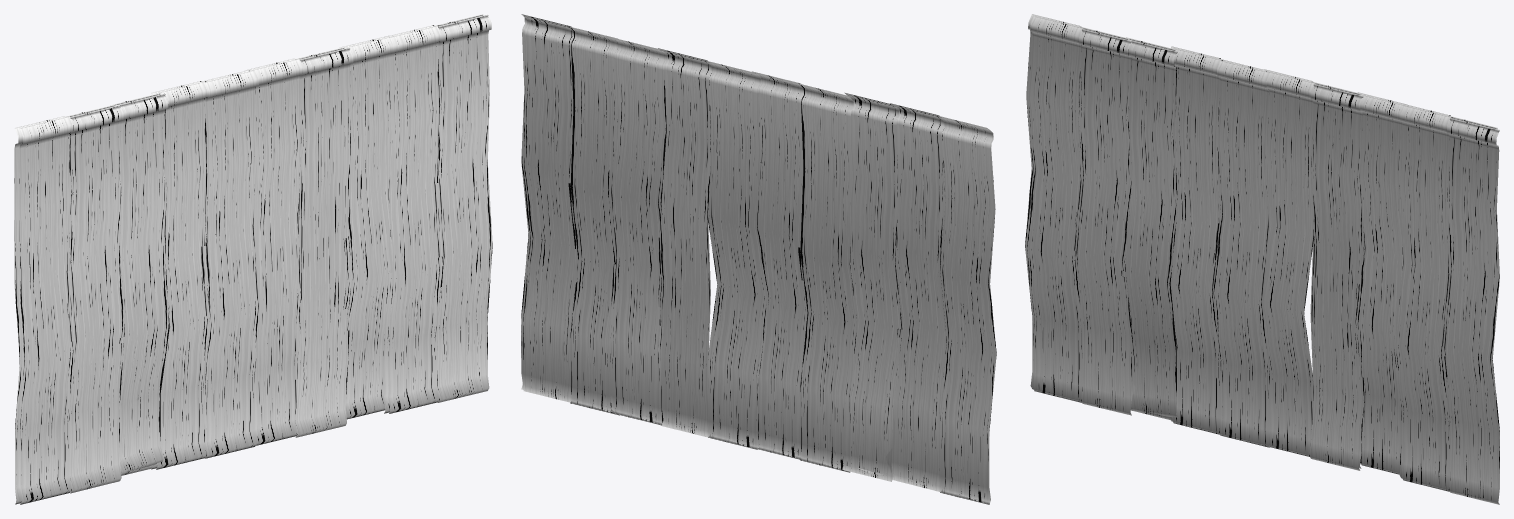
Rendered from Streamers.fbx.
3 views of the same model, side by side, from view 1: azimuth 30°, elevation 25°; view 2: azimuth 150°, elevation 25°; view 3: azimuth 330°, elevation 25° (orthographic).
Visible parts, largest first — view 1: Streamers; view 2: Streamers; view 3: Streamers.
Part boxes in pixels (box(x1,y1,x2,y2)): Streamers: box(14, 14, 492, 504); Streamers: box(521, 14, 996, 504); Streamers: box(1025, 14, 1499, 504).
Size of the model in its own units: 2.46 by 1.87 by 0.1051.
